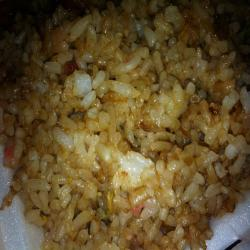rice: (20, 22, 208, 213)
